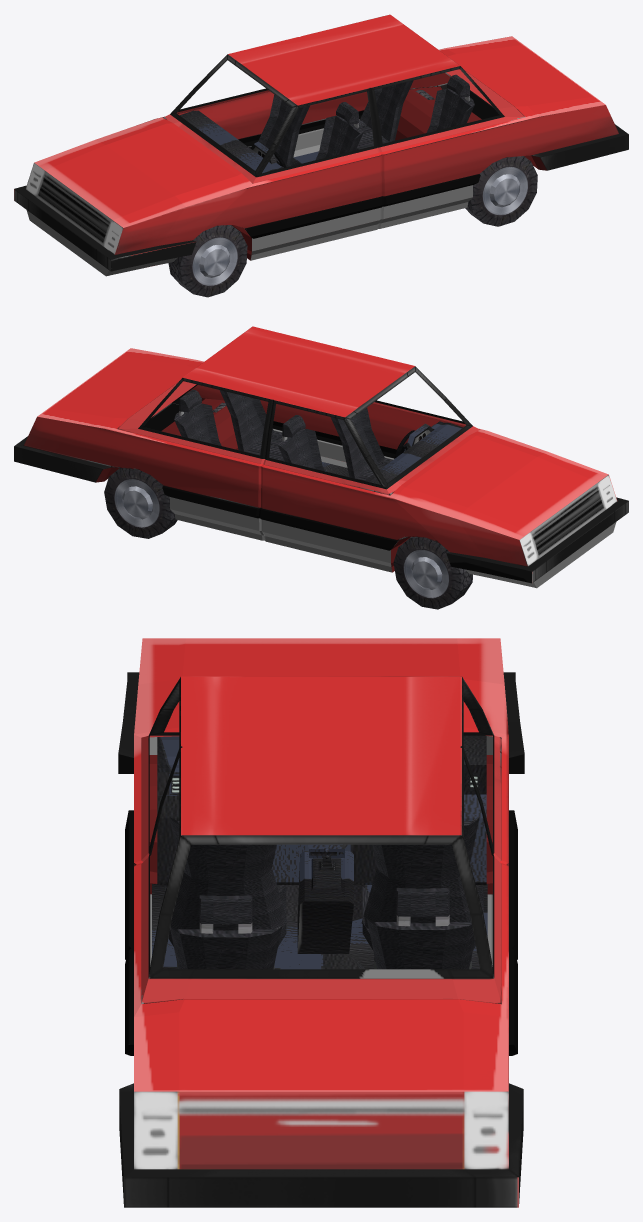
The model's file is Car.glb.
3 views of the same model, one above another, from view 1: azimuth 30°, elevation 25°; view 2: azimuth 150°, elevation 25°; view 3: azimuth 270°, elevation 25° (orthographic). The views are drawn at different scales.
Visible parts, largest first — view 1: Body, Tire, Tire2, Cube, Chair.004, Chair.002, Chair.001, Chair.003; view 2: Body, Tire4, Tire3, Chair.001, Cube, Chair.002, Chair.003, Chair.004; view 3: Body, Cube, Chair.002, Chair.004, Chair.003, Chair.001.
Boxes of the visible parts, x1,y1,x2,y2 form: Body: (14,14,628,276); Tire: (168,225,247,297); Tire2: (465,156,537,226); Cube: (180,110,318,173); Chair.004: (356,80,413,150); Chair.002: (315,102,363,160); Chair.001: (426,74,474,132); Chair.003: (249,94,309,166); Body: (14,326,628,588); Tire4: (393,537,472,609); Tire3: (104,468,177,538); Chair.001: (219,390,284,461); Cube: (322,421,462,484); Chair.002: (330,407,392,480); Chair.003: (277,415,324,471); Chair.004: (174,389,221,445); Body: (118,638,524,1207); Cube: (152,735,487,969); Chair.002: (165,817,287,969); Chair.004: (366,888,474,969); Chair.003: (361,817,483,969); Chair.001: (170,895,282,969).
Size of the model in its own units: 196 by 58.57 by 66.63.
5 materials, 5 textured.
